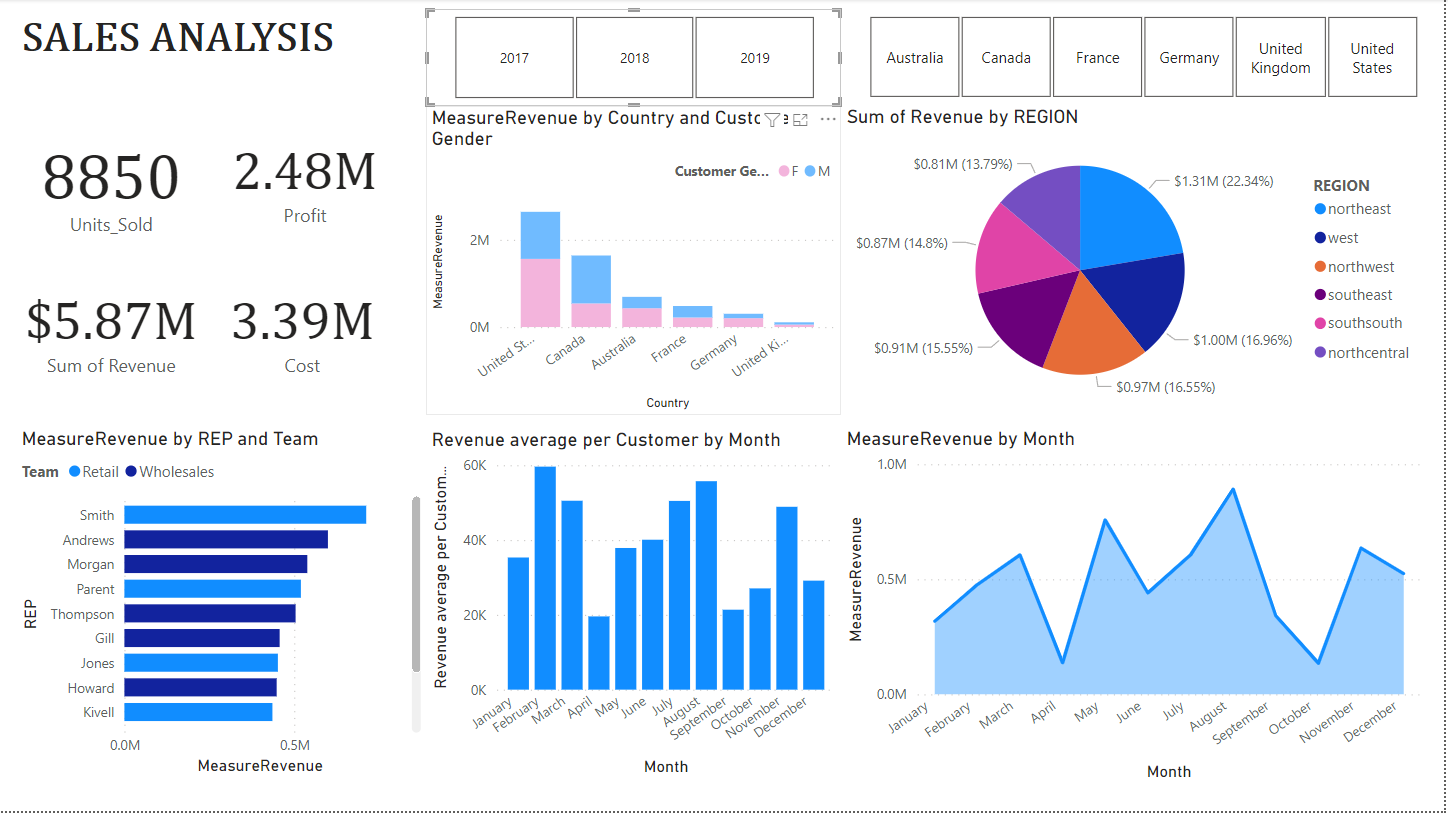

Layout of this report page (visuals, bound fields, positions):
{"tool":"powerbi","page":{"name":"Overview+DD","canvas":[1280,720],"ordinal":0},"visuals":[{"type":"slicer","fields":{"Values":["Customer.Country"]},"box":[745.7,8.9,534.7,85.1],"z":0},{"type":"pieChart","fields":{"Category":["Sales.REGION "],"Y":["Sum(Sales.Revenue)"]},"box":[745.7,94,518.7,274],"z":1000},{"type":"card","fields":{"Values":["Sum(Sales.Units_Sold)"]},"box":[14.2,94,169.4,138.3],"z":2000},{"type":"card","fields":{"Values":["Sum(Sales.Revenue)"]},"box":[14.2,224.3,169.4,135.7],"z":3000},{"type":"columnChart","fields":{"Y":["Sales.MeasureRevenue"],"Category":["Customer.Country"],"Series":["Customer.Customer Gender"]},"box":[377.7,94.9,368,274],"z":4000},{"type":"stackedAreaChart","fields":{"Category":["Product.Date.Variation.Date Hierarchy.Month"],"Y":["Sales.MeasureRevenue"]},"box":[745.7,379.5,519.1,318.1],"z":5000},{"type":"textbox","box":[14.2,8.9,363.5,77.1],"z":6000},{"type":"slicer","fields":{"Values":["Sales.YEARS"]},"box":[377.7,8.9,368,86],"z":7000},{"type":"barChart","fields":{"Category":["Sales_rep.REP"],"Series":["Sales_rep.Team"],"Y":["Sales.MeasureRevenue"]},"box":[14.2,379.5,363.5,313],"z":8000},{"type":"columnChart","fields":{"Y":["Sales.Count of Revenue average per Customer ID"],"Category":["Product.Date.Variation.Date Hierarchy.Month"]},"box":[377.7,380.4,368,313],"z":9000},{"type":"card","fields":{"Values":["Sales.Profit"]},"box":[183.5,86,173.8,146.3],"z":10001},{"type":"card","fields":{"Values":["Sales.Total Profit"]},"box":[183.5,224.3,169.4,135.7],"z":10002}]}

Visuals, with their boxes in screenshot pixels (x1, y1, x2, y2), scaled from the page's 1280x720 canvas onto the 1448x813 screenshot:
slicer - Customer.Country: l=844, t=10, r=1447, b=106
pieChart - Sales.REGION  x Sum(Sales.Revenue): l=844, t=106, r=1430, b=416
card - Sum(Sales.Units_Sold): l=16, t=106, r=208, b=262
card - Sum(Sales.Revenue): l=16, t=253, r=208, b=406
columnChart - Sales.MeasureRevenue x Customer.Country: l=427, t=107, r=844, b=417
stackedAreaChart - Product.Date.Variation.Date Hierarchy.Month x Sales.MeasureRevenue: l=844, t=429, r=1431, b=788
textbox: l=16, t=10, r=427, b=97
slicer - Sales.YEARS: l=427, t=10, r=844, b=107
barChart - Sales_rep.REP x Sales_rep.Team: l=16, t=429, r=427, b=782
columnChart - Sales.Count of Revenue average per Customer ID x Product.Date.Variation.Date Hierarchy.Month: l=427, t=430, r=844, b=783
card - Sales.Profit: l=208, t=97, r=404, b=262
card - Sales.Total Profit: l=208, t=253, r=399, b=406
